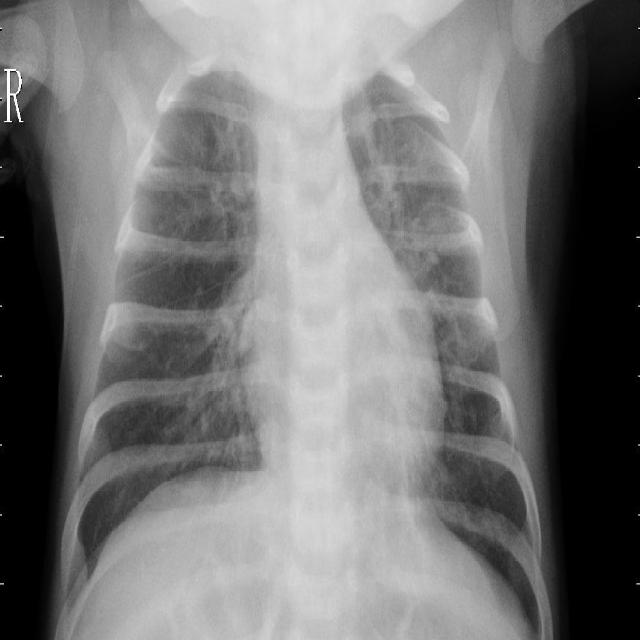low-pneumonia: (353, 107, 439, 274), (189, 284, 256, 453), (208, 77, 255, 251)
